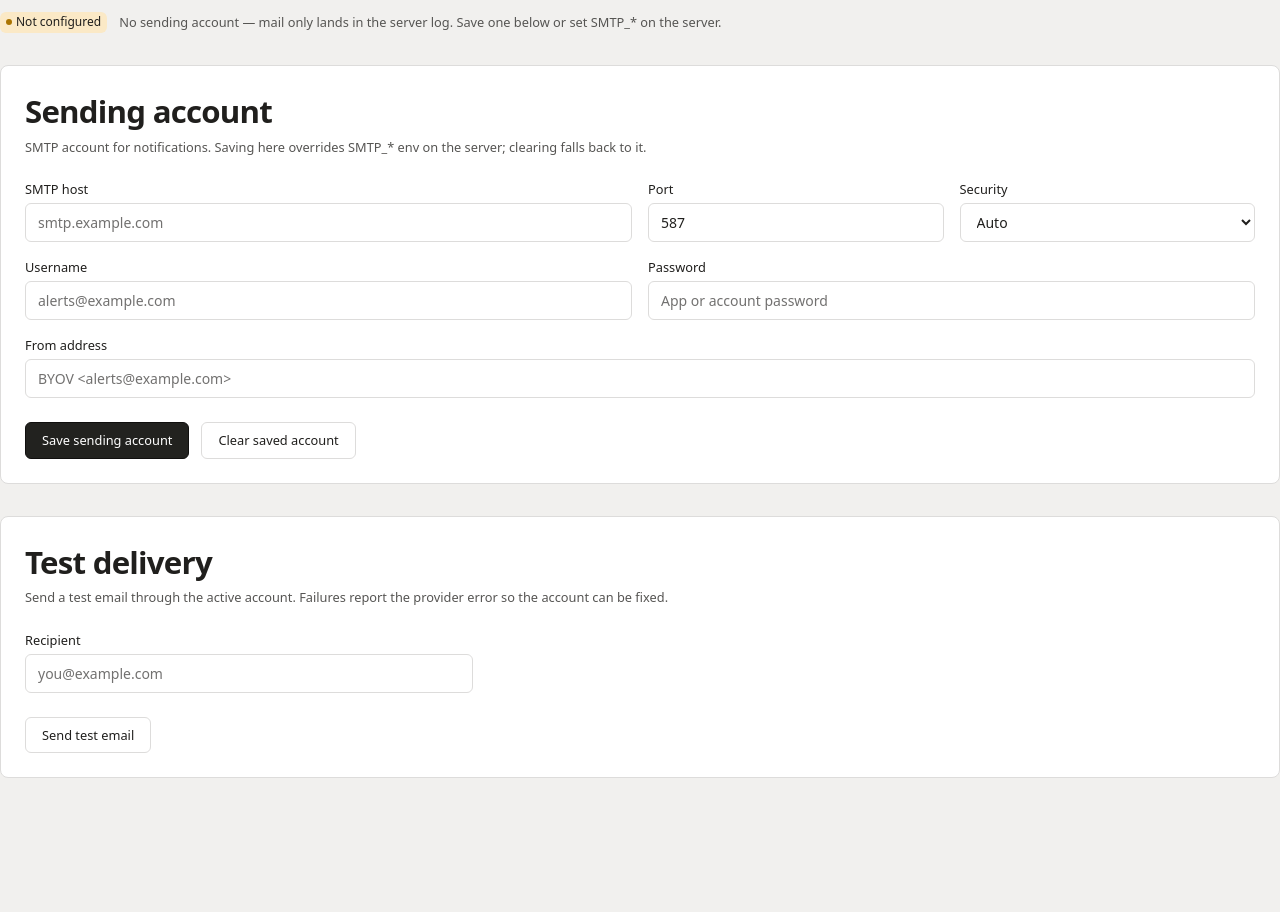
Scenario: MailSettingsForm › shows field errors from the API
This screenshot has width=1280, height=912.
Click the button with test id "mail-save" at point(107, 441), box [25,422,189,459]
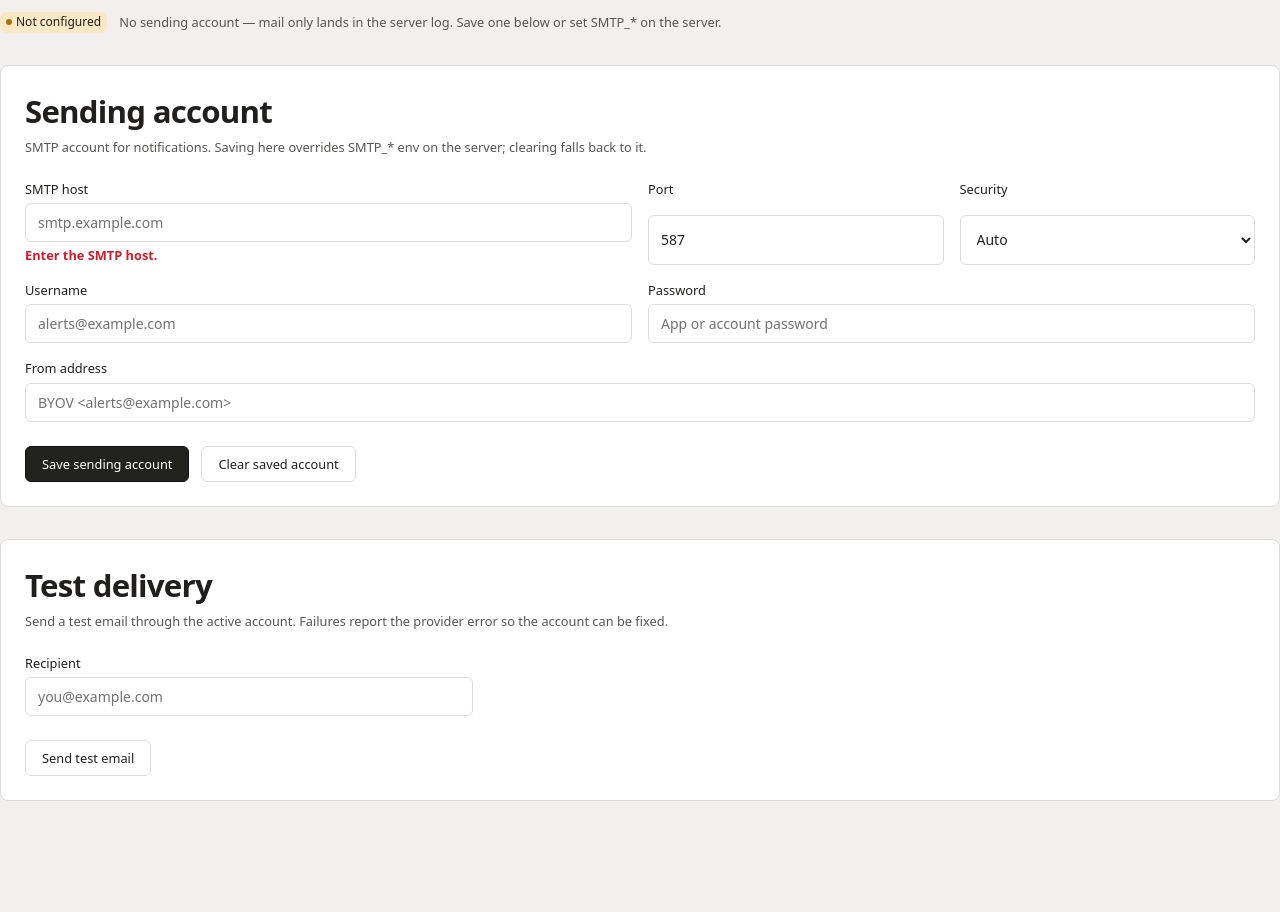
Check: the text "Enter the SMTP host." is shown, box [25,246,158,264]
